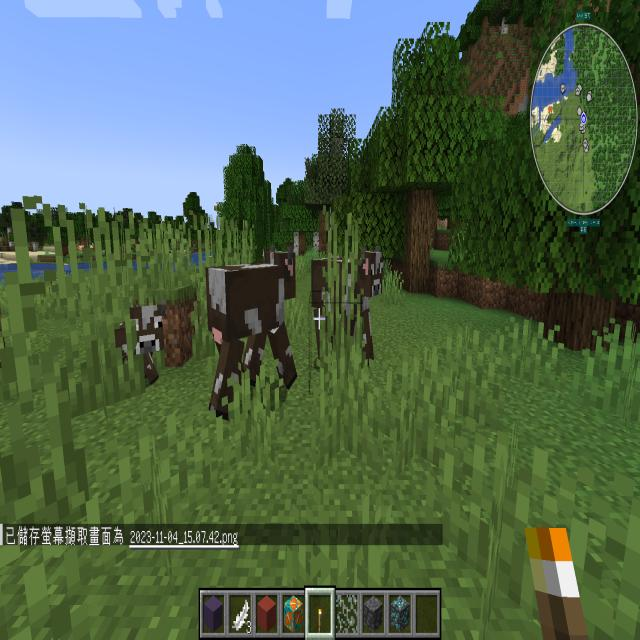cow: (196, 237, 310, 431), (306, 235, 397, 383), (97, 277, 168, 397)
